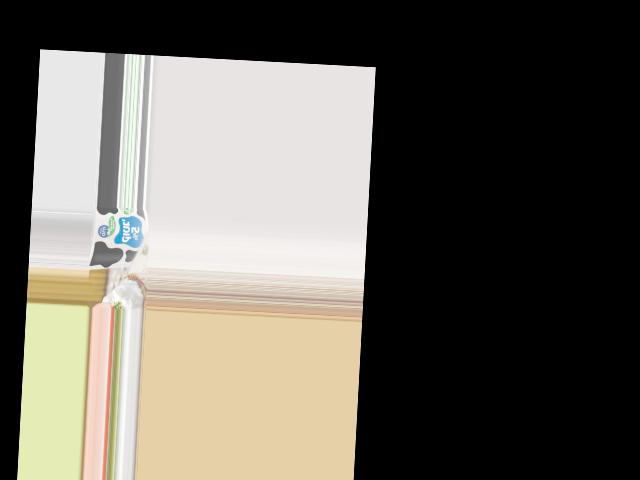cotage: (89, 206, 148, 269)
